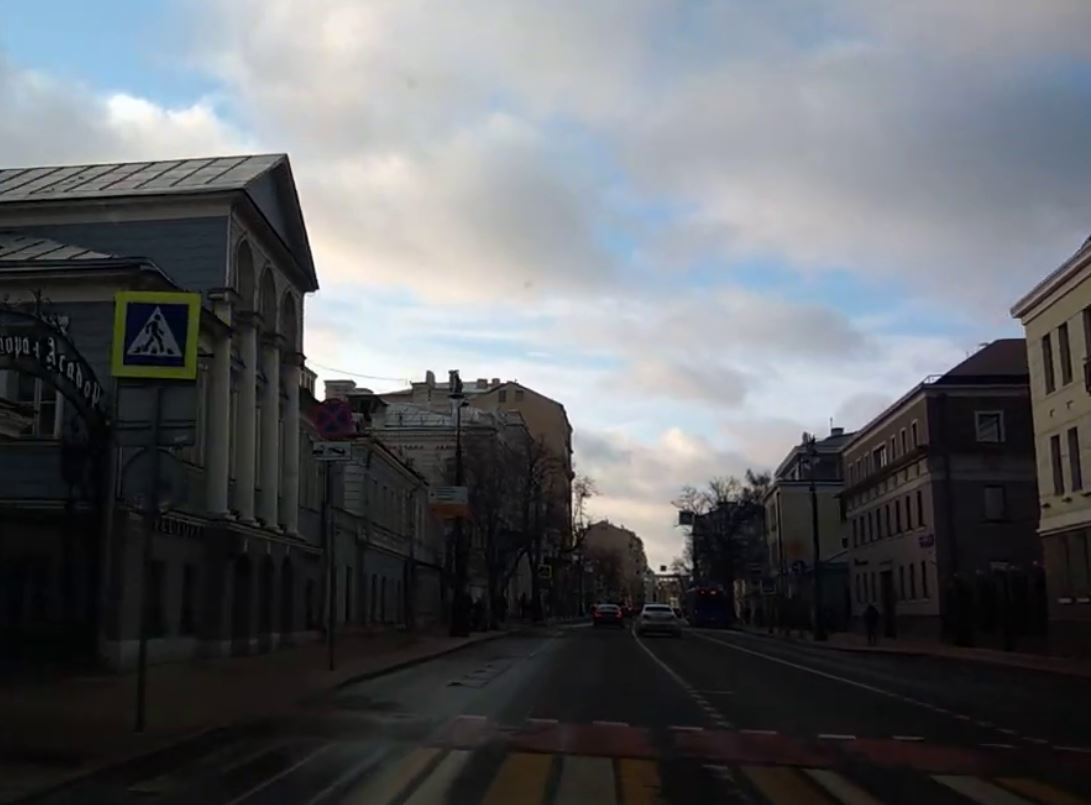Yaya Gecidi: (128, 301, 192, 368)
